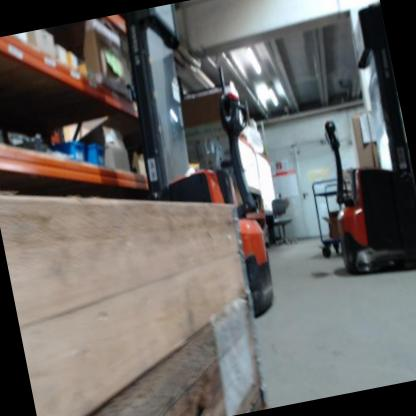pallet_truck: (104, 0, 292, 344), (294, 0, 416, 285)
